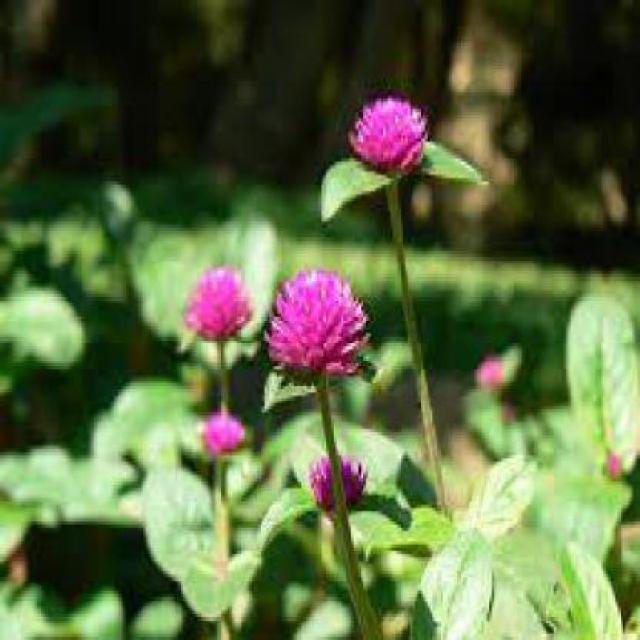flower: (256, 261, 367, 393), (350, 92, 448, 185), (188, 254, 262, 346), (312, 450, 385, 504), (200, 406, 248, 468)
